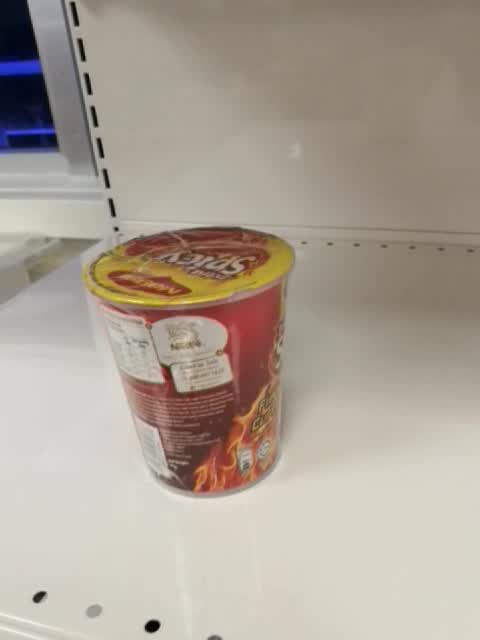maggi: (84, 225, 296, 498)
